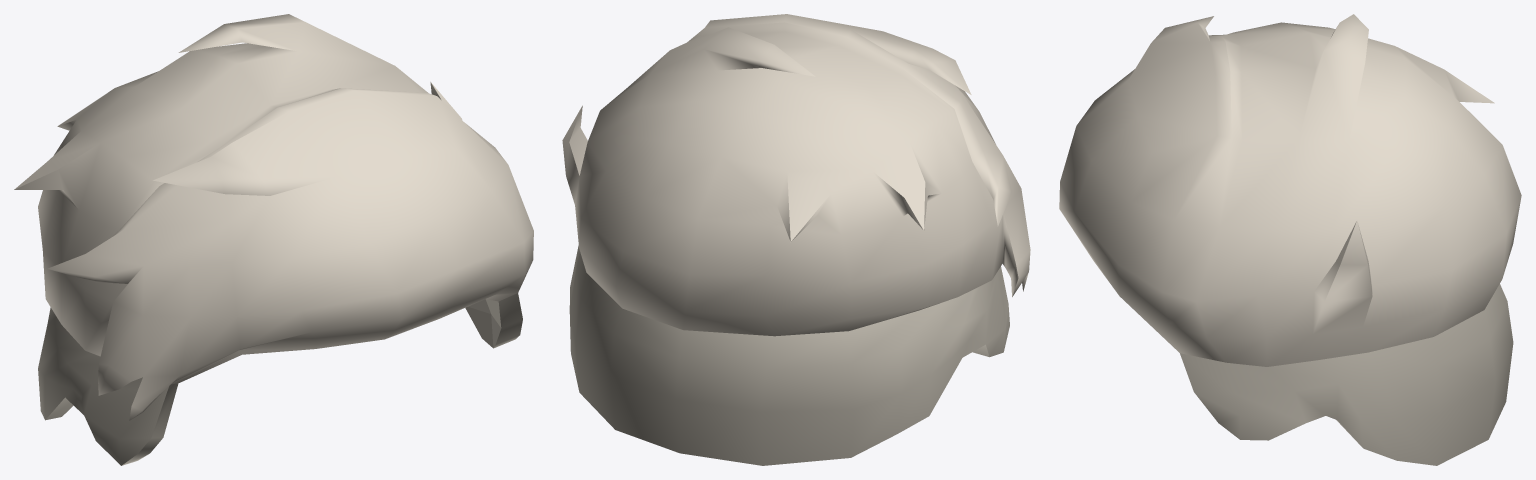
The model's file is Hair_12_07.fbx.
The picture shows the model from 3 angles, left to right: view 1: azimuth 30°, elevation 25°; view 2: azimuth 150°, elevation 25°; view 3: azimuth 270°, elevation 25°; orthographic projection. The views are drawn at different scales.
Visible parts, largest first — view 1: Hair_12_07; view 2: Hair_12_07; view 3: Hair_12_07.
Boxes of the visible parts, bbox=[...] form: Hair_12_07: bbox=[14, 14, 533, 465]; Hair_12_07: bbox=[562, 14, 1030, 465]; Hair_12_07: bbox=[1059, 14, 1521, 465].
Size of the model in its own units: 40.83 by 34.03 by 38.32.
